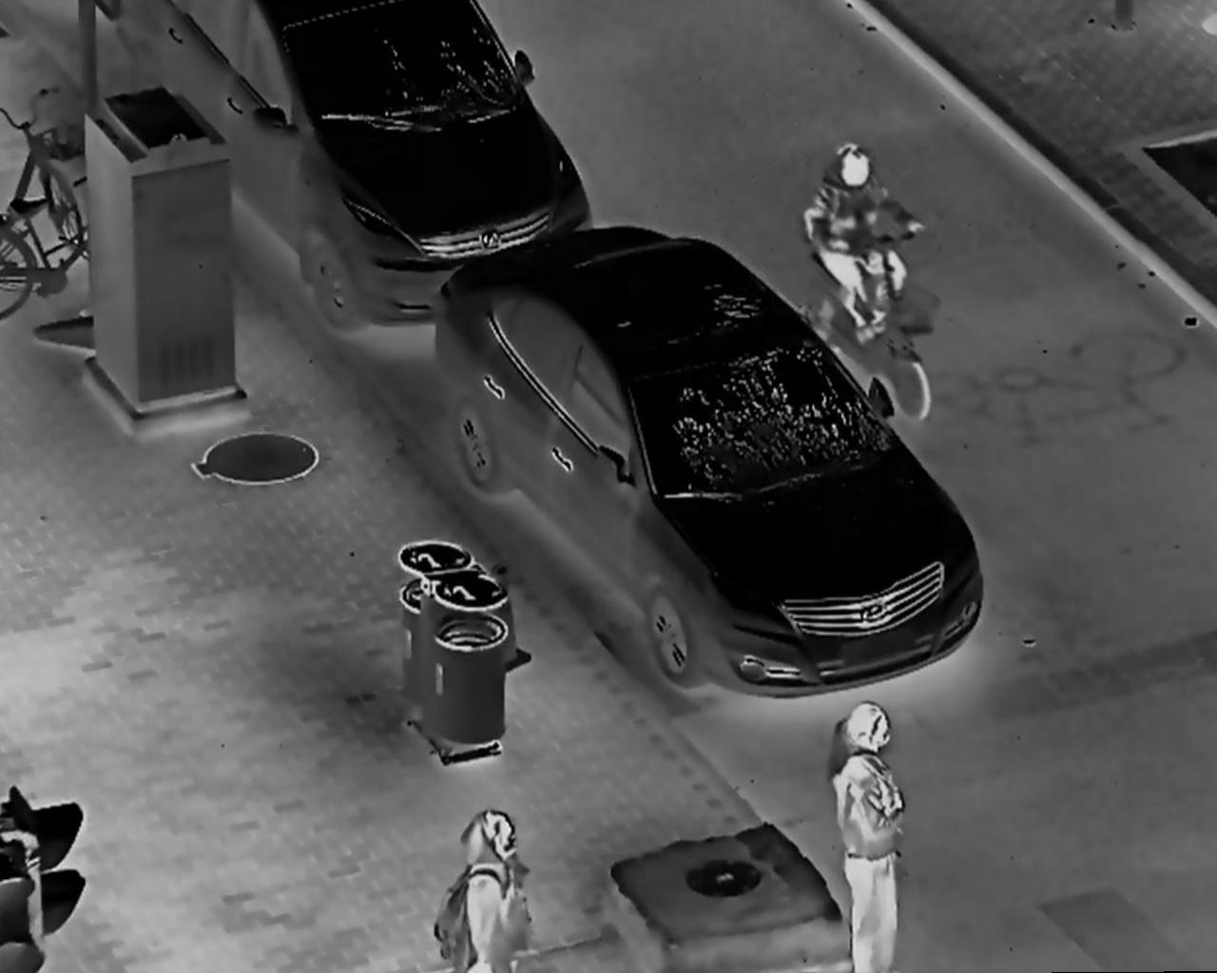person: (792, 141, 932, 353), (819, 699, 912, 973), (427, 803, 536, 973)
